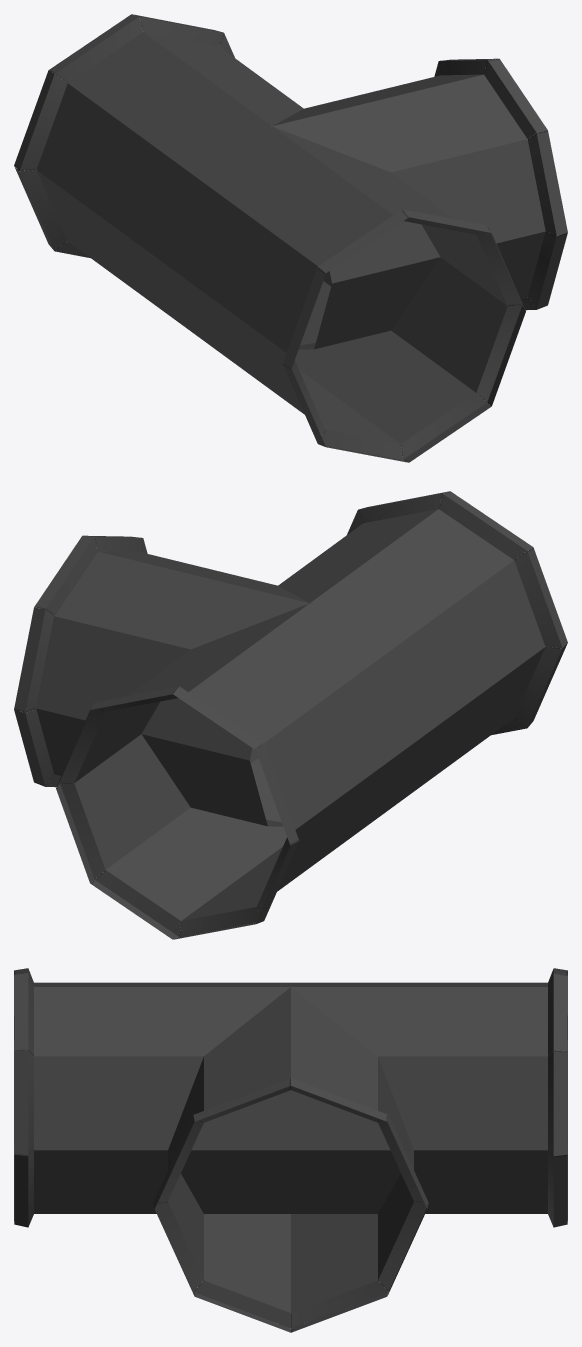
File: Pipe 3 Textured.fbx
3 renders of one model, top to bottom at view 1: azimuth 30°, elevation 25°; view 2: azimuth 150°, elevation 25°; view 3: azimuth 270°, elevation 25°, orthographic.
Parts seen in each view (by area): view 1: pCylinder3; view 2: pCylinder3; view 3: pCylinder3.
Part boxes in pixels (x1,y1,x2,y2): pCylinder3: [14, 14, 567, 462]; pCylinder3: [14, 491, 567, 939]; pCylinder3: [14, 968, 567, 1332].
Size of the model in its own units: 3.26 by 2.24 by 4.5.
1 material, 1 textured.
